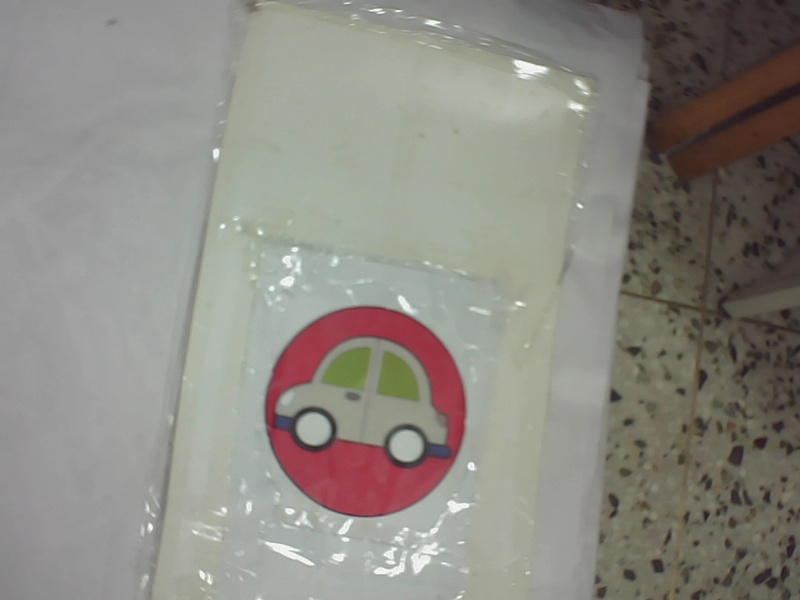areaC: (261, 296, 471, 524)
